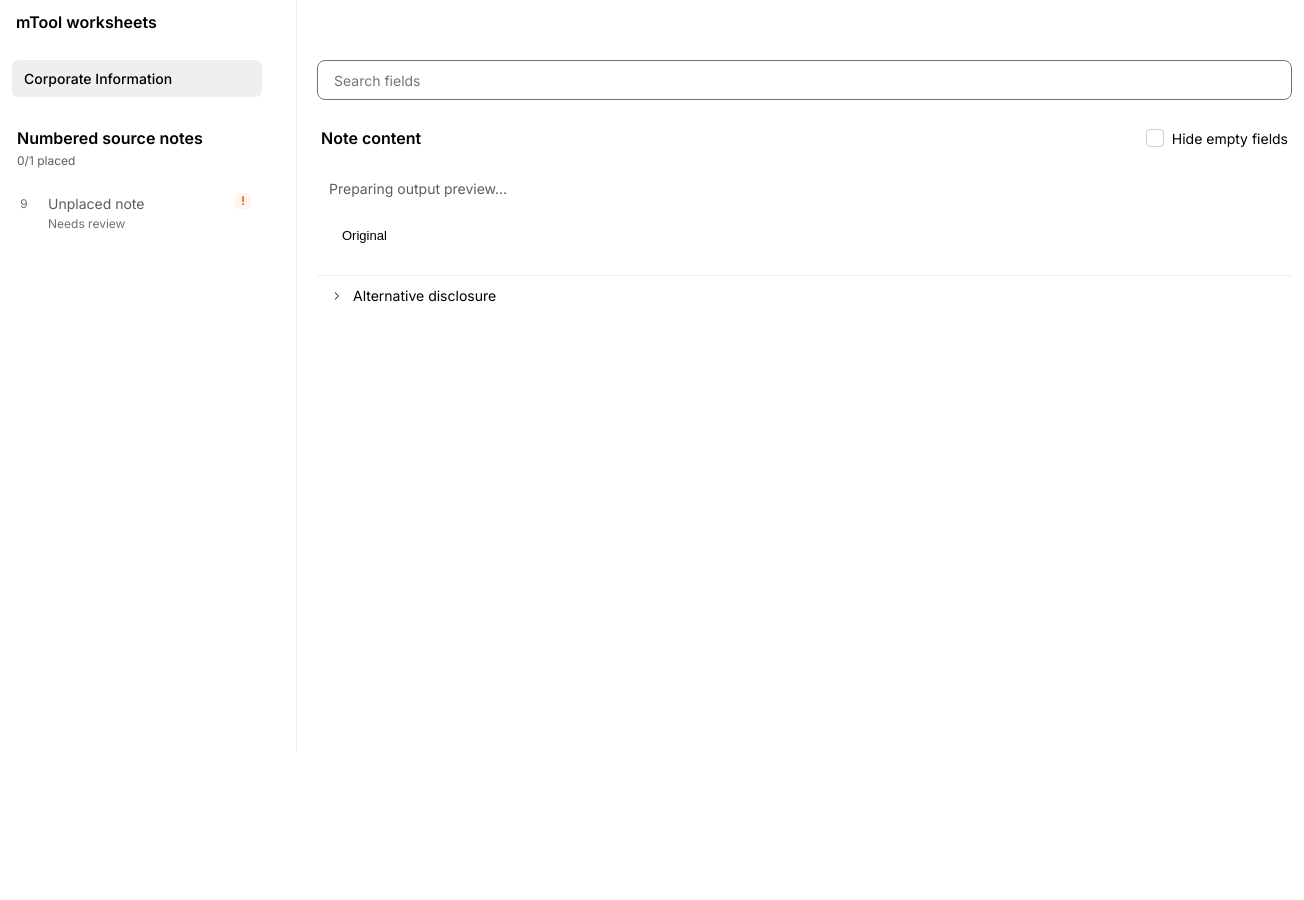
Test case: discard retains an earlier successful save when a newer draft fails
This screenshot has width=1304, height=900.
What coordinates should you click on to do the following:
click the element with test id "notes-field-preview"
I would click on:
 (804, 215)
Its box is top-left (317, 156), bottom-right (1292, 274).
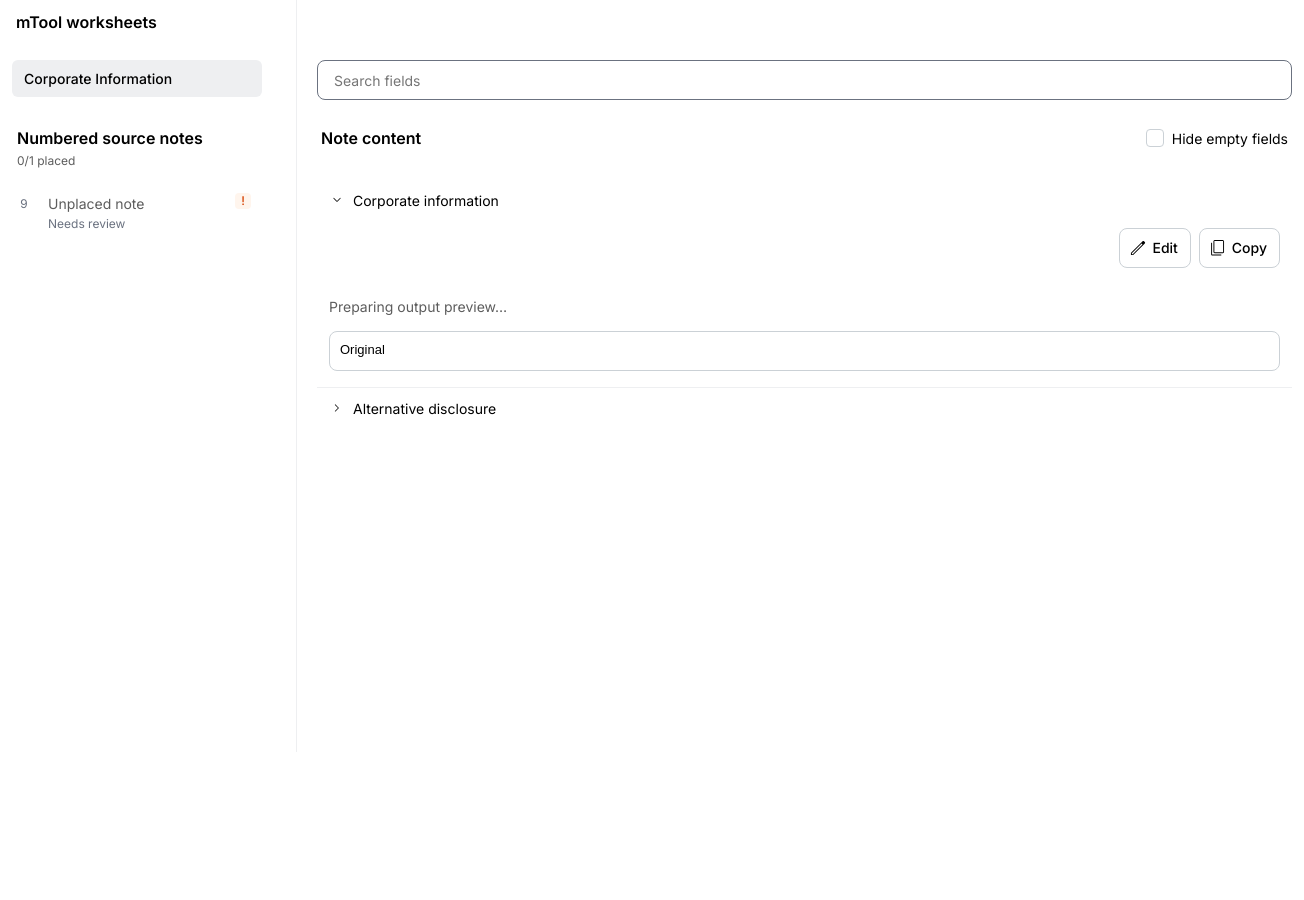
What coordinates should you click on to do the following:
click the button "Edit"
I would click on:
 (1155, 248)
Its box is top-left (1119, 228), bottom-right (1191, 268).
Wait 3200 ms
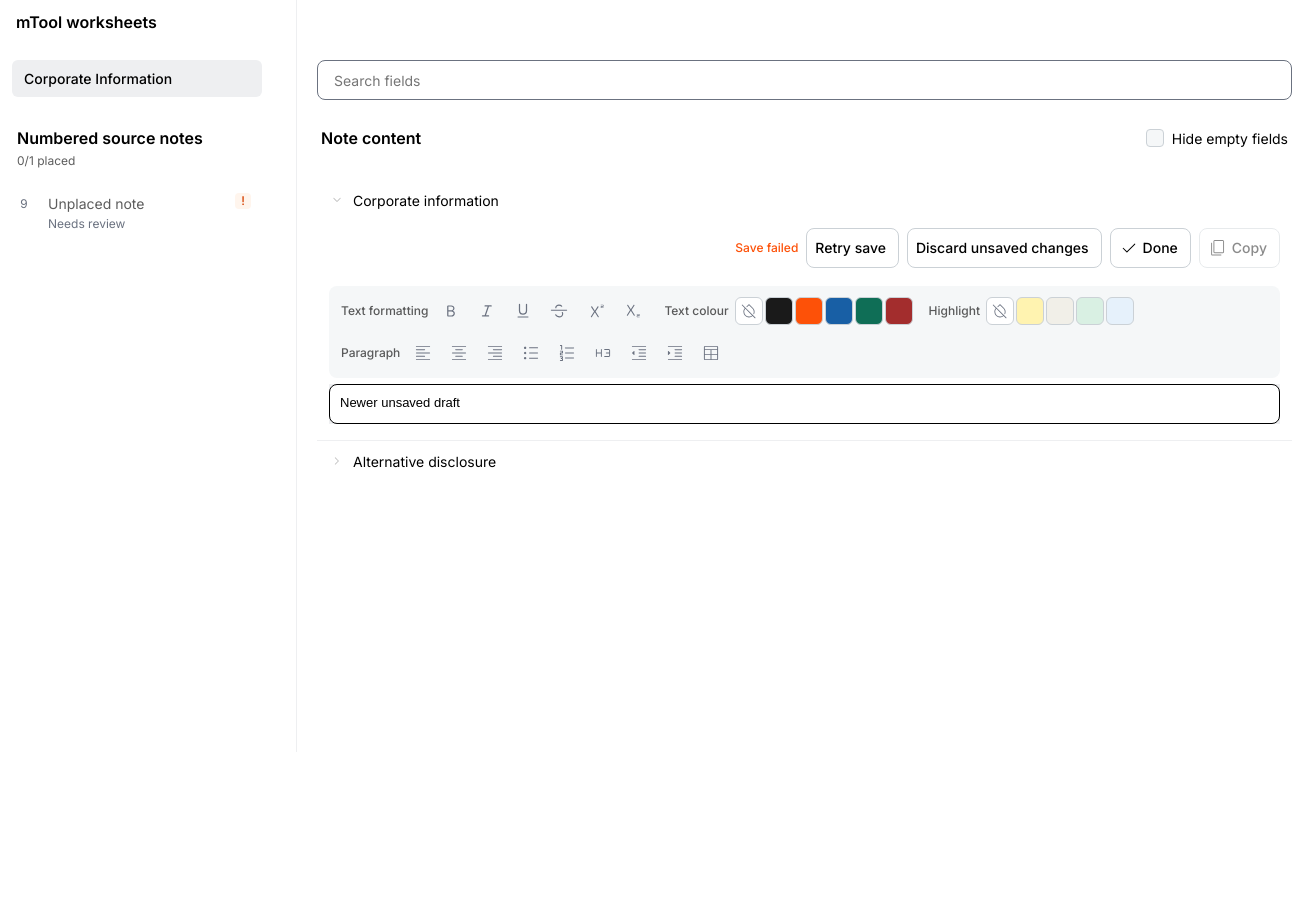
Expected: the element with test id "notes-review-editor" reads "Newer unsaved draft", top-left (340, 395), bottom-right (460, 410)
What coordinates should you click on to do the following:
click the button "Discard unsaved changes"
I would click on:
 (1004, 248)
Its box is top-left (907, 228), bottom-right (1102, 268).
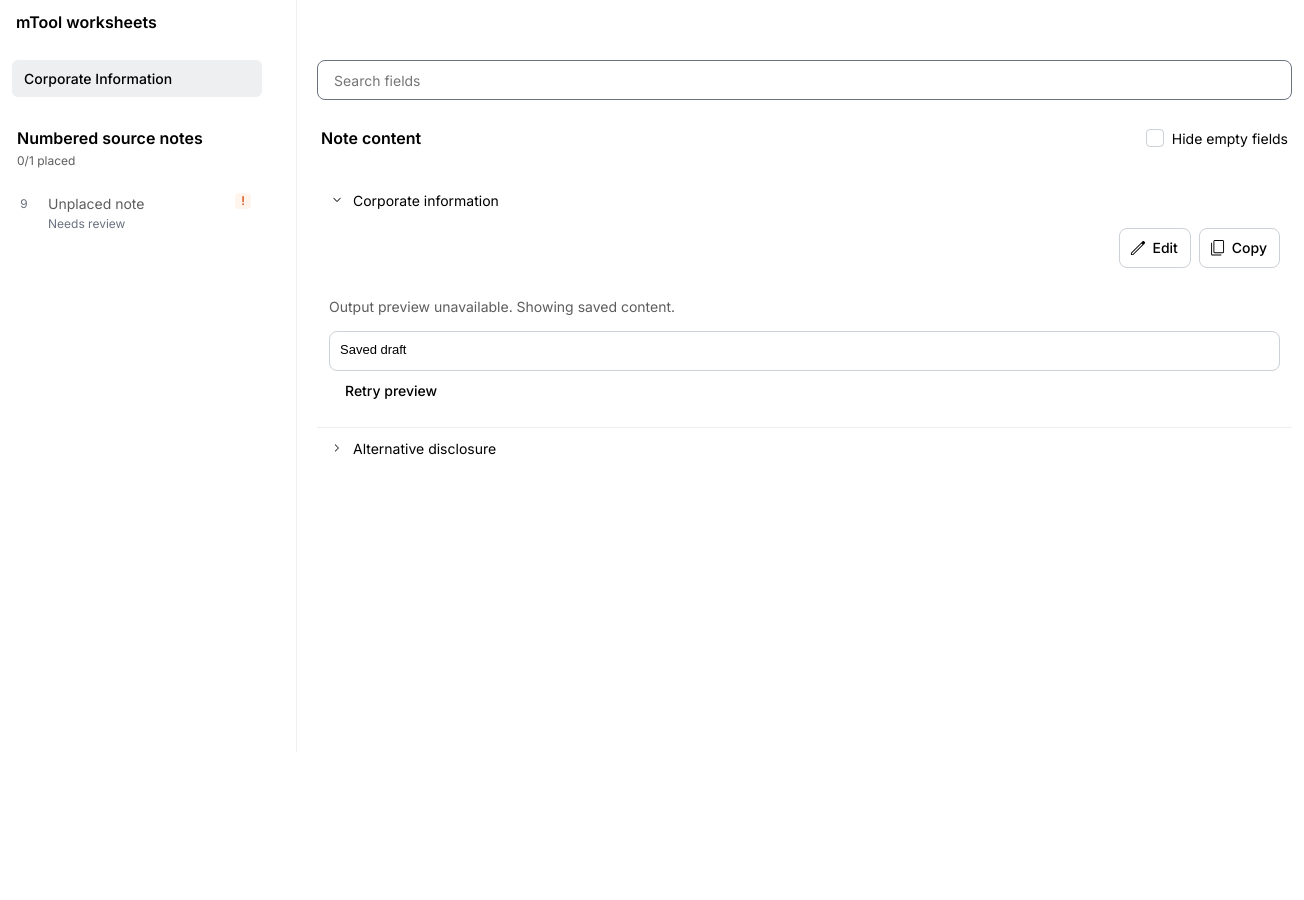
Expected: the element with test id "notes-review-editor" shows "Saved draft", top-left (340, 342), bottom-right (406, 357)
What coordinates should you click on to do the following:
click the button with aria-label "Review Alternative disclosure"
I would click on:
 (425, 448)
Its box is top-left (317, 428), bottom-right (1292, 468).
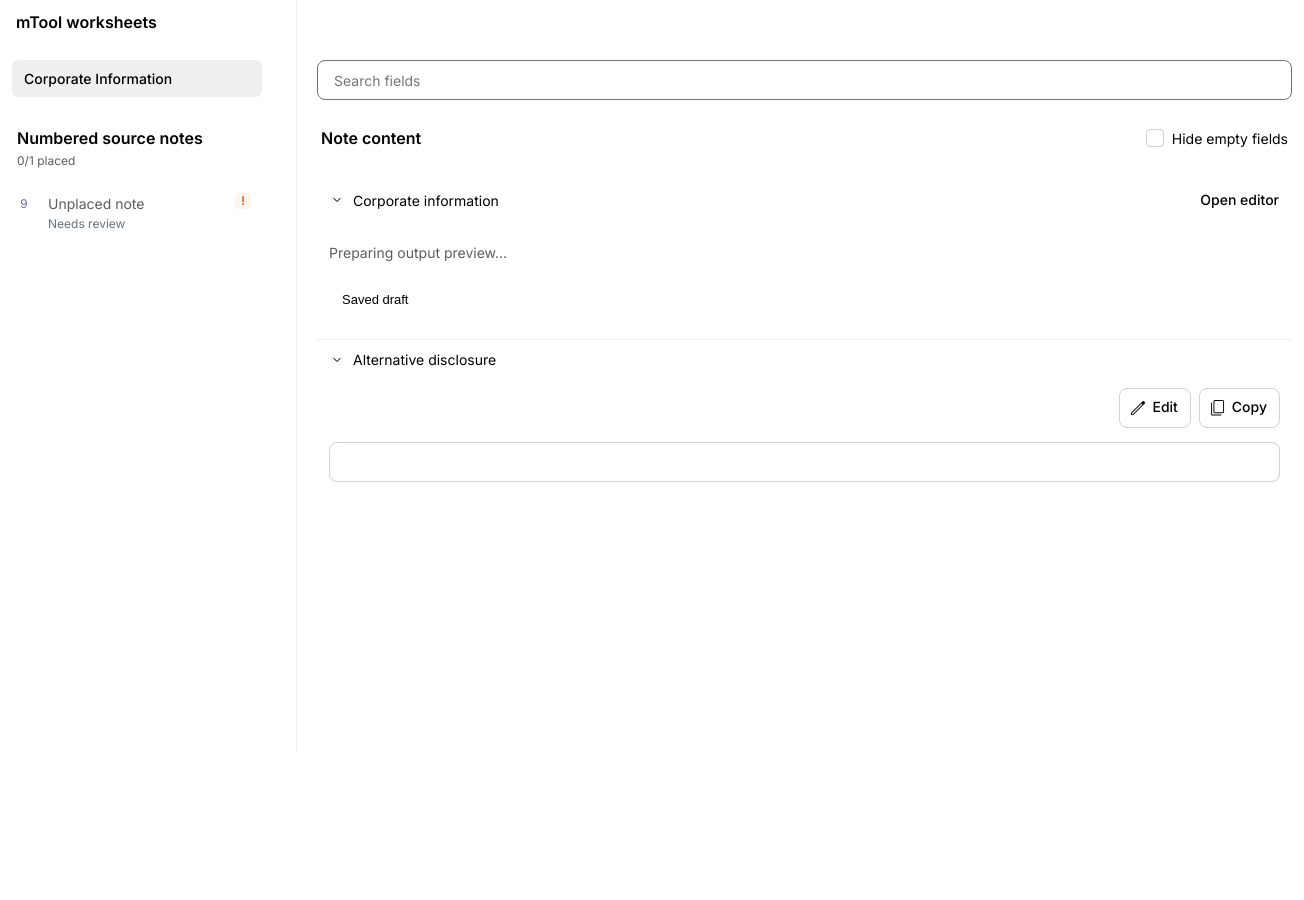
What coordinates should you click on to do the following:
click the element with test id "notes-field-preview"
I would click on:
 (804, 279)
Its box is top-left (317, 220), bottom-right (1292, 338).
Wait 1600 ms
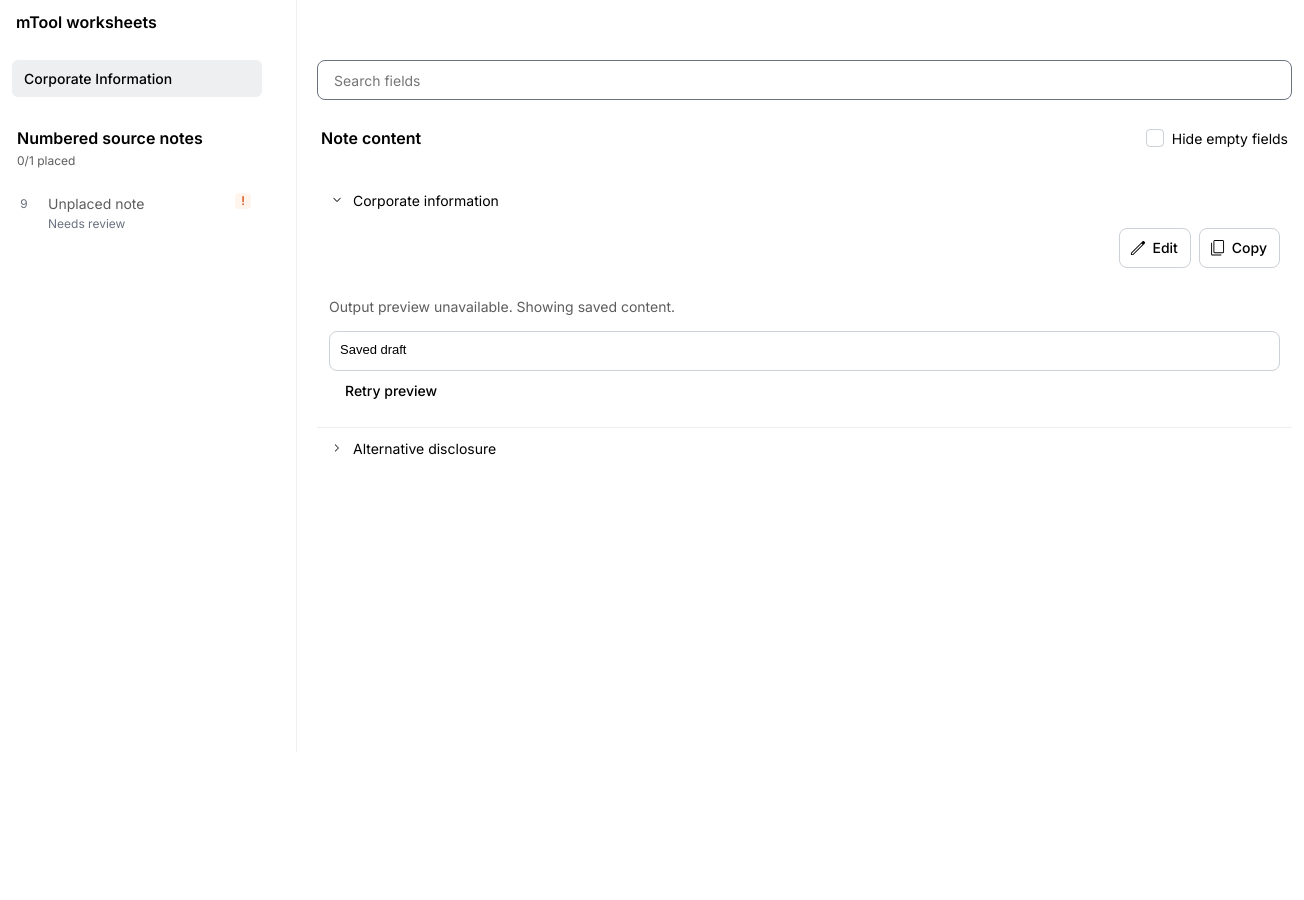
Expected: the element with test id "notes-review-editor" shows "Saved draft", top-left (340, 342), bottom-right (406, 357)
